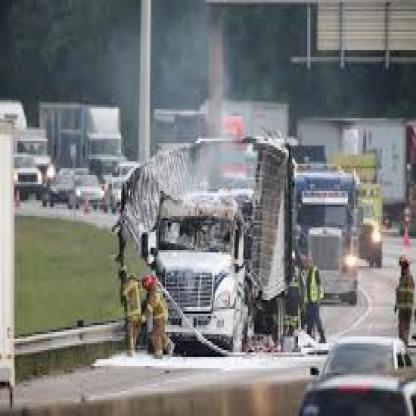accident: (120, 138, 298, 358)
